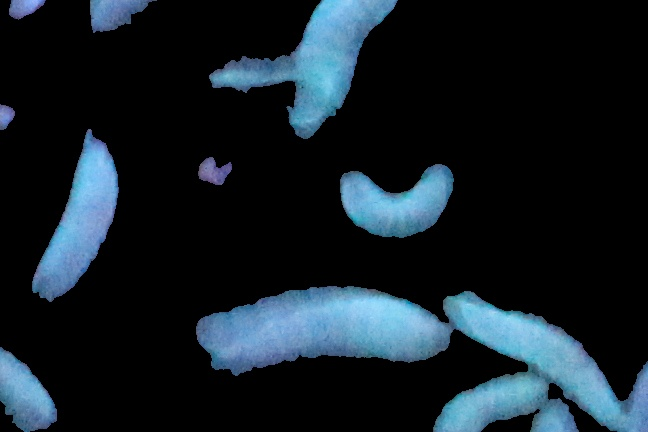larvae: (443, 287, 635, 425), (195, 289, 449, 379), (278, 1, 403, 137), (35, 127, 120, 308), (339, 166, 457, 244), (430, 372, 552, 432), (1, 346, 60, 432)
